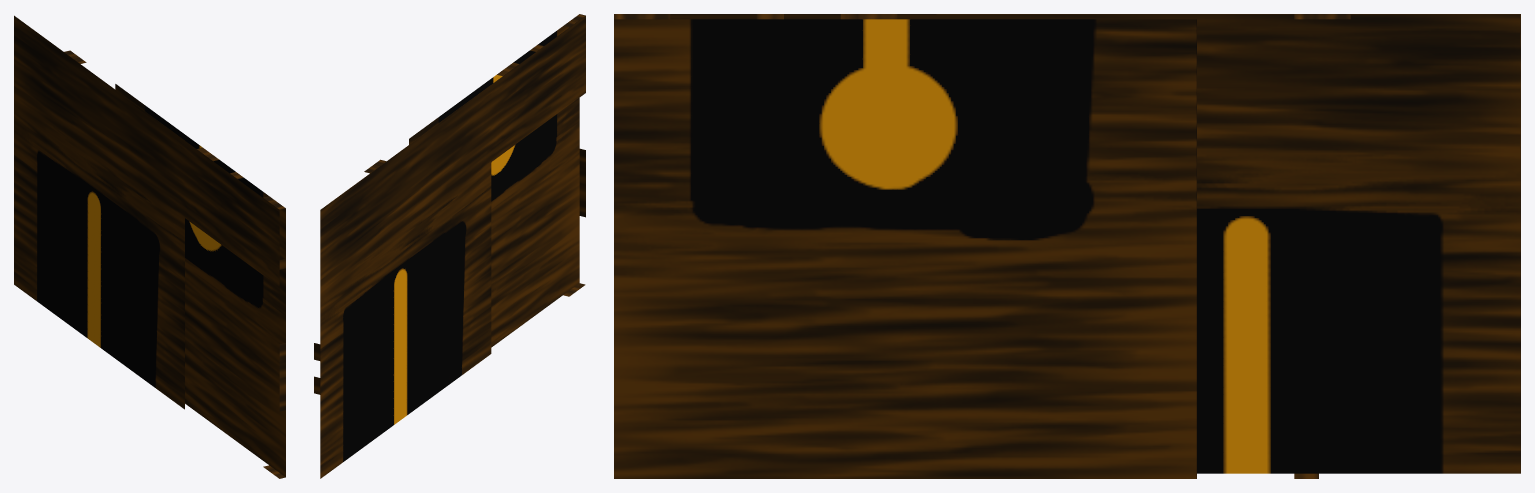
File: Frame2.obj
3 views of the same model, side by side, from view 1: azimuth 30°, elevation 25°; view 2: azimuth 150°, elevation 25°; view 3: azimuth 270°, elevation 25° (orthographic). The views are drawn at different scales.
Visible parts, largest first — view 1: Frame2; view 2: Frame2; view 3: Frame2.
Part boxes in pixels (x1,y1,x2,y2): Frame2: (14, 15, 285, 478); Frame2: (314, 14, 585, 478); Frame2: (614, 14, 1520, 478).
Bounding box in the file's own units: 0.1698 × 6.95 × 12.42.
